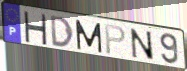9: (159, 33, 179, 66)
D: (49, 15, 75, 49)
H: (22, 10, 48, 47)
M: (74, 19, 104, 55)
N: (129, 27, 156, 63)
P: (104, 23, 127, 56)
